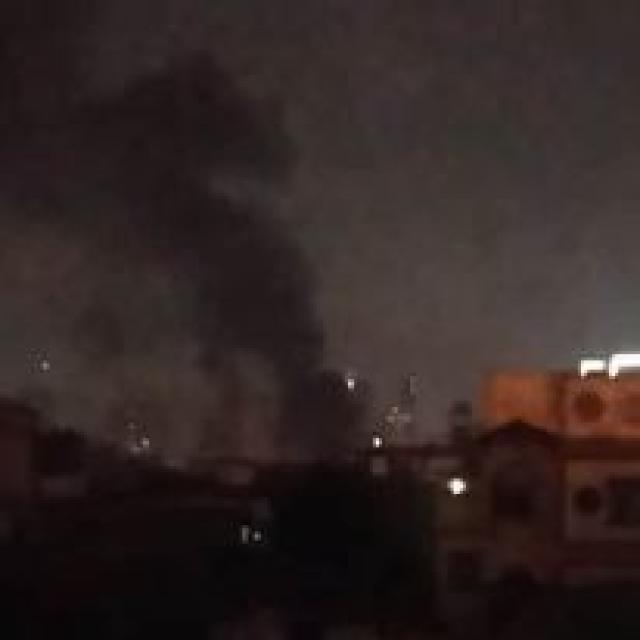Smoke: (2, 2, 382, 454)
